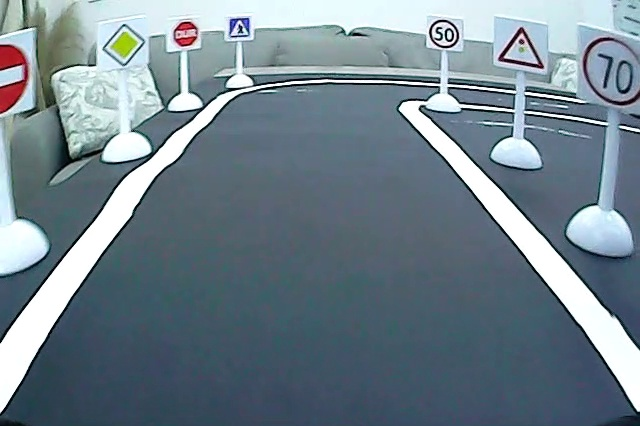pedestrian crossing: (228, 16, 253, 40)
red light: (495, 22, 547, 74)
speed limit 50: (428, 17, 463, 51)
speed limit 70: (582, 34, 640, 107)
stop sign: (170, 20, 199, 49)
